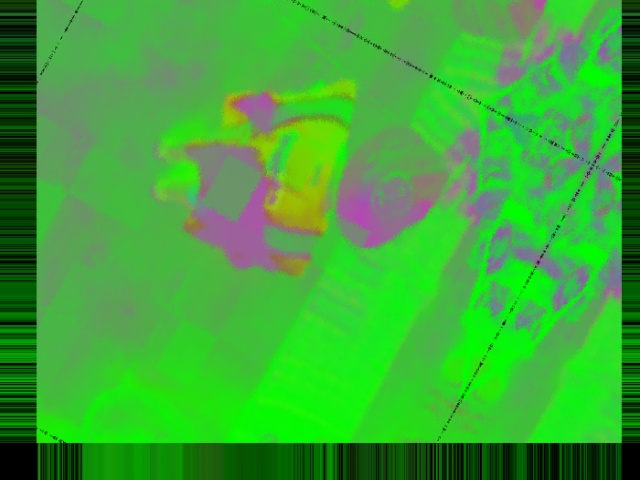two: (363, 167, 421, 227)
